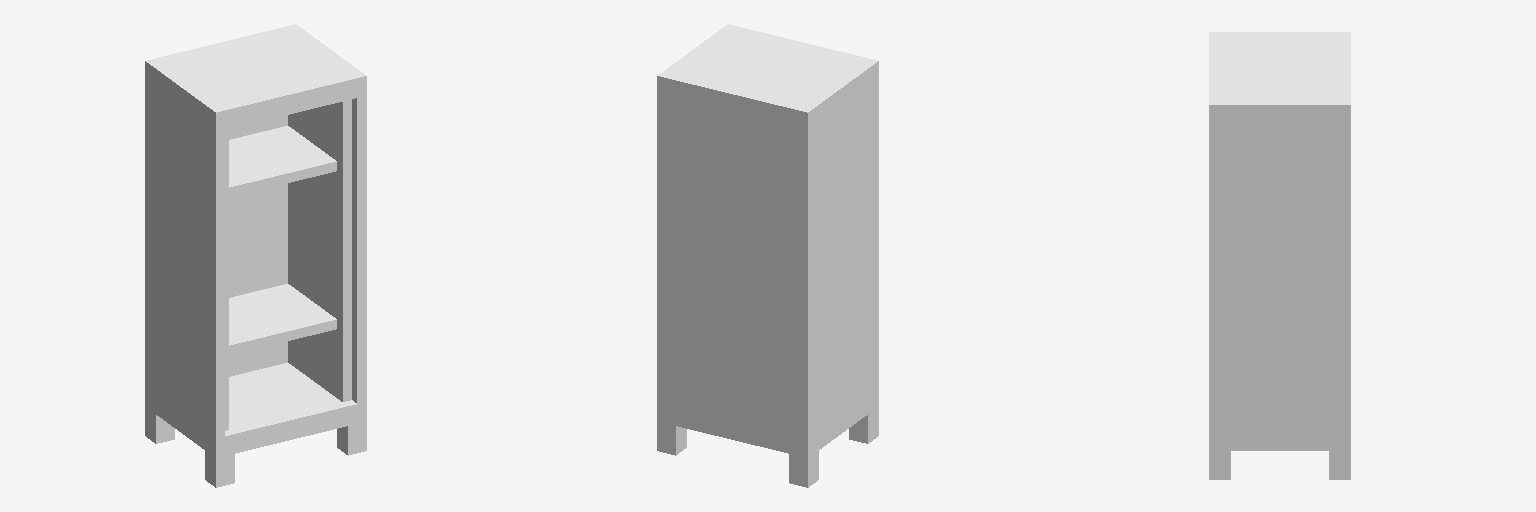
The model's file is Taquilla-1.obj.
The picture shows the model from 3 angles: view 1: azimuth 30°, elevation 25°; view 2: azimuth 150°, elevation 25°; view 3: azimuth 270°, elevation 25°; orthographic projection.
Parts seen in each view (by area): view 1: object 1; view 2: object 1; view 3: object 1.
Boxes of the visible parts, <box> form: object 1: <box>145,24,366,487</box>; object 1: <box>657,24,878,487</box>; object 1: <box>1209,32,1350,479</box>.
Bounding box in the file's own units: 1.6 × 3.8 × 1.3.